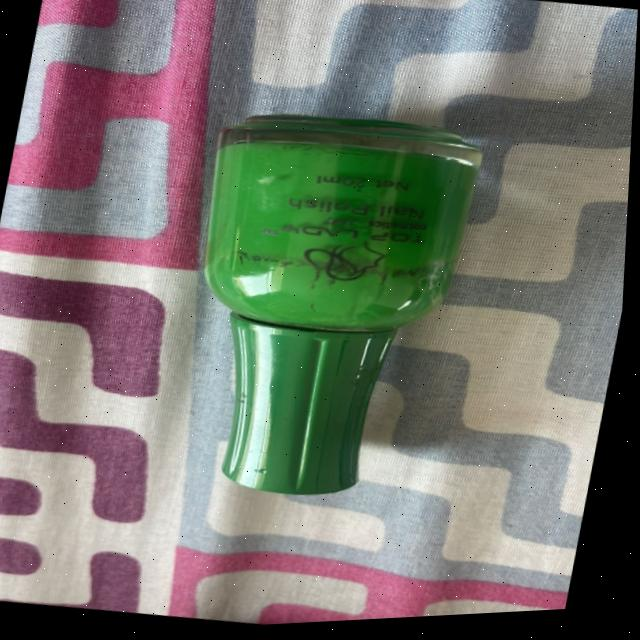nail polish: (121, 74, 527, 543)
